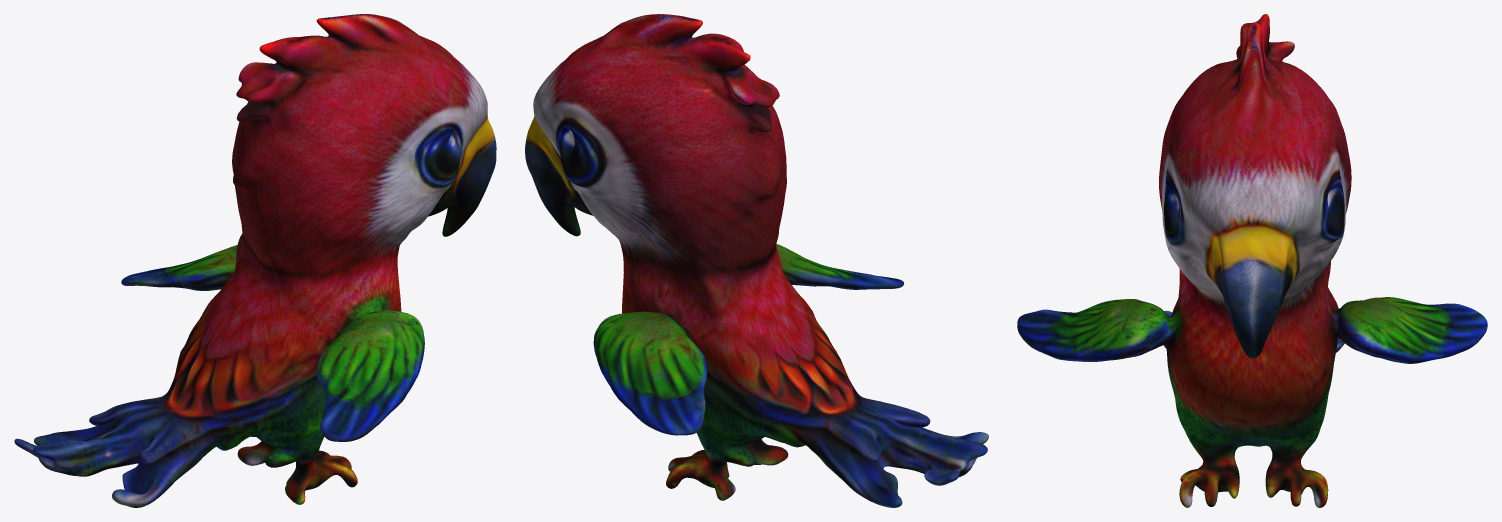
The model's file is toon_parrot.glb.
3 views of the same model, side by side, from view 1: azimuth 30°, elevation 25°; view 2: azimuth 150°, elevation 25°; view 3: azimuth 270°, elevation 25° (orthographic). The views are drawn at different scales.
Parts seen in each view (by area): view 1: default_008-material; view 2: default_008-material; view 3: default_008-material.
Boxes of the visible parts, box(x1,y1,x2,y2) form: default_008-material: box(14, 14, 496, 507); default_008-material: box(525, 14, 988, 507); default_008-material: box(1017, 14, 1487, 507).
Bounding box in the file's own units: 1.64 × 1.56 × 1.36.
1 material, 1 textured.
